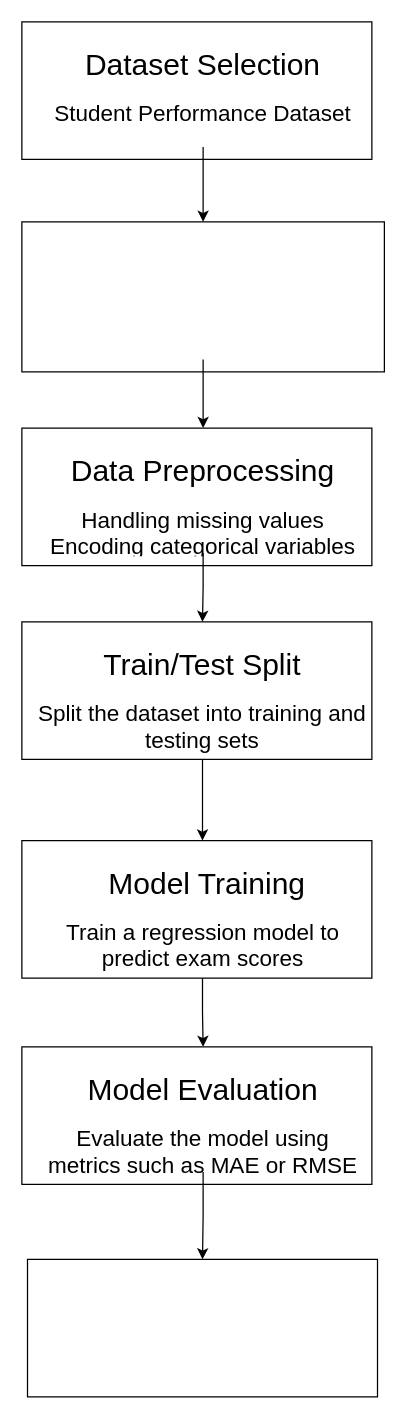
This 406x1423 diagram has some shape labels left out. Each missing label, with the box of its shape:
Data Loading Load dataset using Pandas in Python: (21, 221, 384, 372)
R esults Analyze model performance and prediction accuracy: (26, 1258, 378, 1397)
